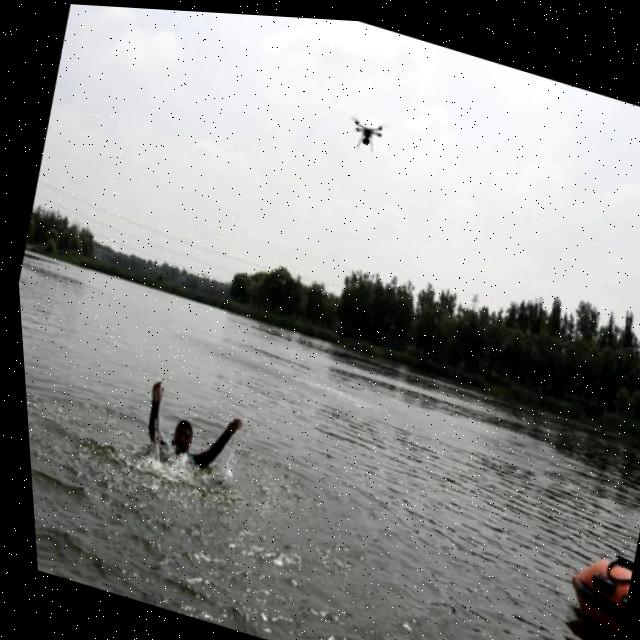civilian: (108, 334, 286, 511)
